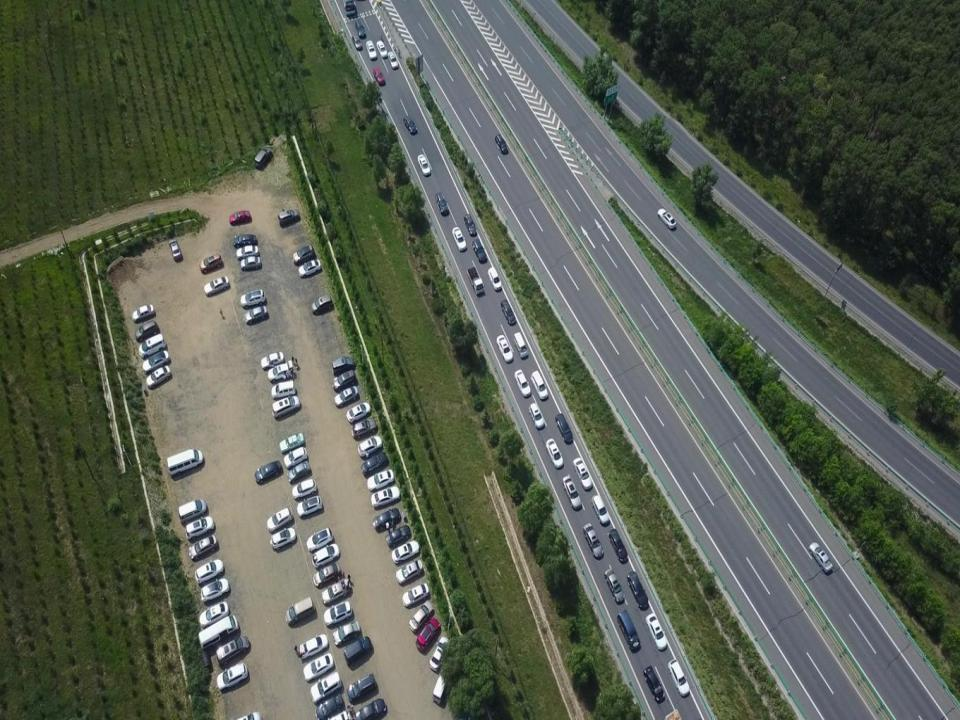car: (808, 531, 836, 581), (309, 672, 342, 704), (667, 657, 692, 697), (641, 664, 665, 705), (627, 568, 651, 609), (608, 524, 629, 568), (301, 653, 334, 681), (216, 662, 249, 690), (413, 616, 440, 650), (312, 692, 347, 718), (408, 598, 433, 634), (645, 613, 667, 652), (284, 596, 312, 626), (603, 567, 625, 605), (332, 617, 361, 645), (192, 559, 224, 584), (572, 455, 594, 491), (581, 523, 603, 559), (187, 535, 220, 559), (271, 395, 300, 422), (298, 633, 328, 659), (198, 602, 229, 627), (184, 516, 216, 540), (395, 558, 422, 586), (265, 507, 294, 533), (323, 601, 352, 627), (390, 539, 420, 564), (402, 580, 429, 607), (254, 460, 282, 486), (312, 543, 340, 569), (321, 580, 350, 605), (430, 635, 450, 671), (200, 578, 231, 601), (356, 697, 387, 720), (562, 474, 581, 511), (141, 349, 171, 372), (370, 486, 400, 509), (590, 493, 610, 527), (143, 366, 171, 390), (554, 412, 574, 445), (373, 507, 400, 531), (312, 562, 340, 585), (270, 527, 296, 551), (296, 494, 322, 518), (386, 524, 412, 548), (305, 528, 333, 550), (545, 436, 564, 468), (361, 452, 388, 474), (526, 402, 546, 431), (282, 445, 306, 469), (286, 460, 311, 483), (357, 435, 383, 457), (366, 468, 392, 490), (278, 432, 305, 453), (350, 418, 378, 438), (204, 274, 229, 296), (291, 477, 317, 498), (345, 401, 371, 422), (332, 369, 356, 391), (291, 244, 315, 265), (495, 334, 513, 362), (499, 298, 517, 326), (240, 288, 265, 308), (259, 349, 284, 369), (131, 303, 155, 323), (656, 207, 676, 231), (268, 362, 292, 382), (514, 369, 530, 398), (199, 254, 222, 274), (277, 208, 301, 227), (244, 306, 268, 325), (333, 387, 357, 406), (310, 294, 331, 314), (232, 232, 258, 248), (472, 238, 488, 264), (297, 260, 321, 276), (332, 356, 356, 372), (451, 226, 466, 251), (487, 266, 502, 291), (236, 243, 260, 258), (434, 192, 449, 216), (228, 210, 251, 225), (417, 153, 431, 177), (463, 213, 477, 237), (403, 115, 418, 136), (238, 256, 260, 270), (237, 709, 263, 720), (325, 709, 351, 720), (168, 240, 181, 261), (372, 67, 385, 87), (364, 40, 377, 60), (388, 50, 400, 71), (376, 39, 388, 58), (350, 34, 362, 50)
truck: (432, 646, 455, 706)
van: (194, 614, 240, 646), (615, 607, 641, 652), (214, 634, 250, 664), (165, 447, 203, 473), (343, 635, 372, 663), (346, 672, 376, 698), (177, 497, 206, 522), (530, 367, 549, 400), (270, 380, 296, 399), (513, 330, 530, 358), (254, 147, 271, 171), (495, 132, 508, 154), (354, 17, 366, 39), (343, 0, 358, 16)
